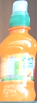orange: (1, 1, 36, 103)
